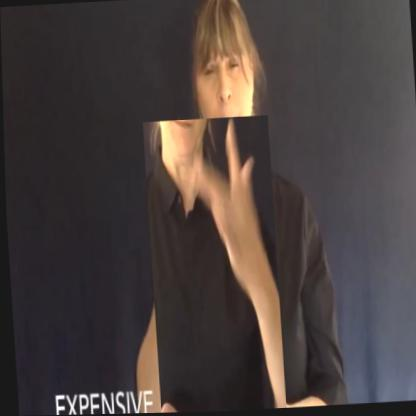Expensive: (142, 116, 284, 414)
